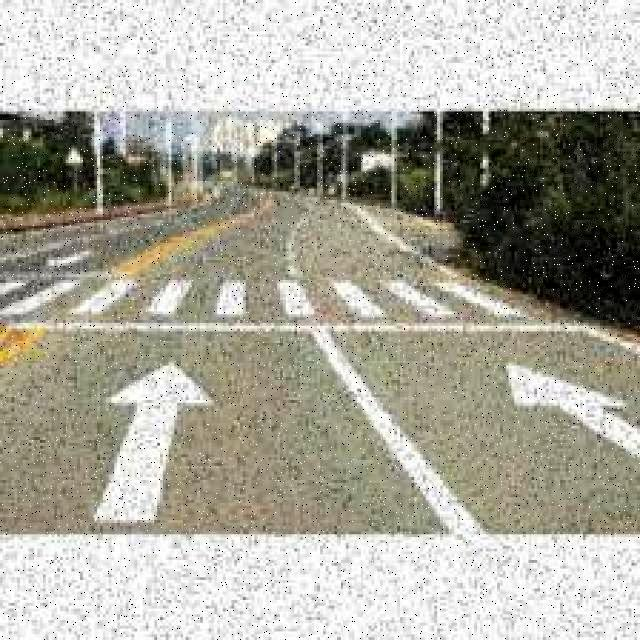crosswalk: (2, 276, 572, 325)
